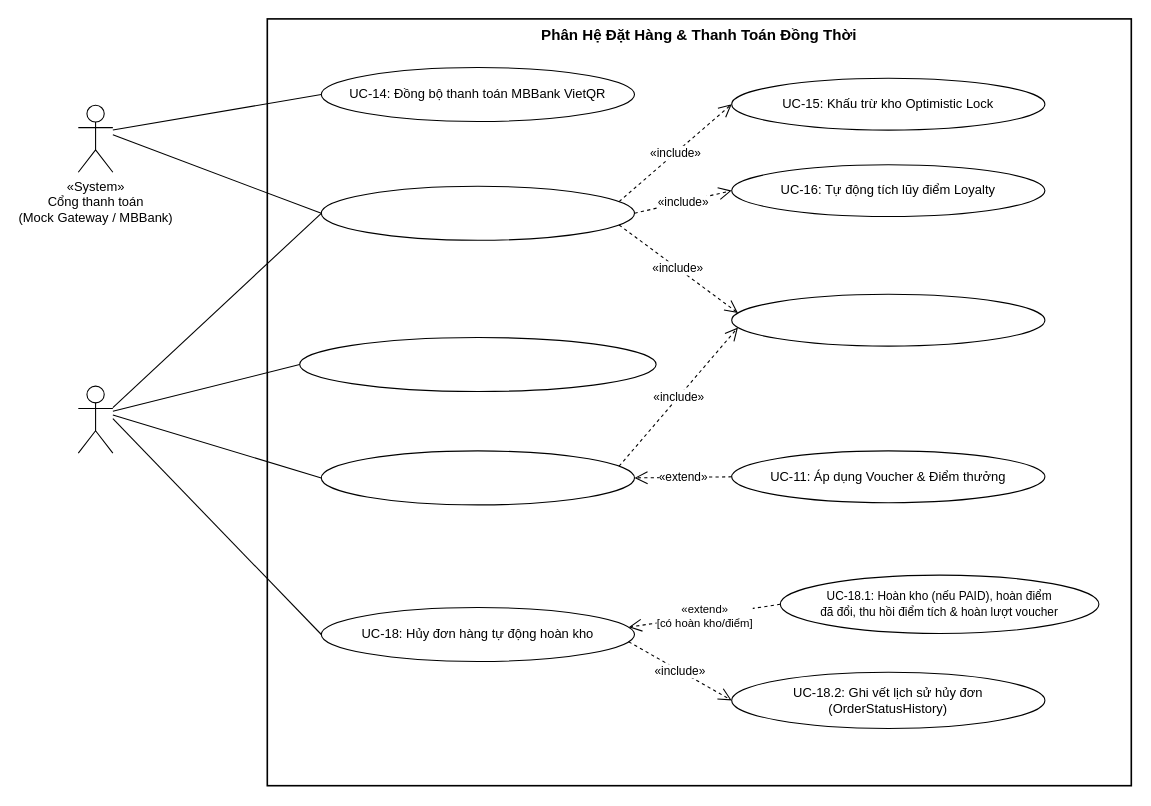
Image size: 1151x806. Some labels were removed from this diagram. Here are the shapes that lost their labels. From the top down, the centre of each, then its label:
(477,212): UC-13: Thanh toán đơn hàng (Ví/Thẻ mô phỏng)
(888,319): UC-13.1: Ghi nhận lịch sử OrderStatusHistory
(477,364): UC-10: Tra cứu voucher khả dụng (Public: Guest / Customer)
(95,419): Khách hàng (Customer)
(477,477): UC-12: Khởi tạo đơn hàng (PENDING)
